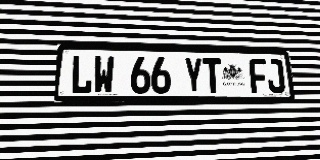6: (131, 56, 151, 94), (151, 57, 171, 94)
F: (249, 59, 268, 93)
J: (266, 59, 286, 93)
L: (70, 55, 93, 94)
T: (203, 58, 222, 93)
W: (93, 55, 114, 94)
Y: (184, 57, 204, 93)
